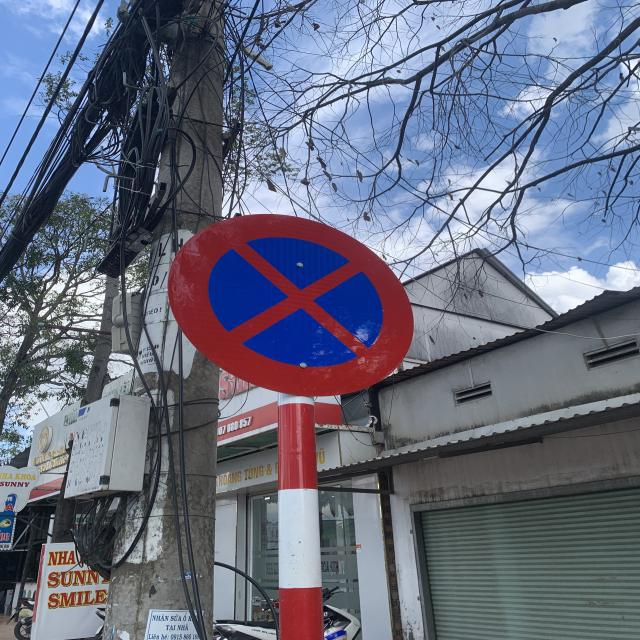Cam_Dung_Va_Dau_Xe: (167, 216, 413, 400)
